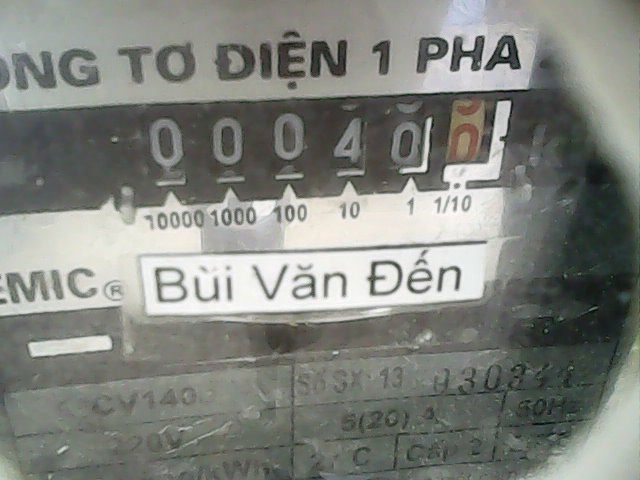phy_plate: (129, 90, 517, 195)
